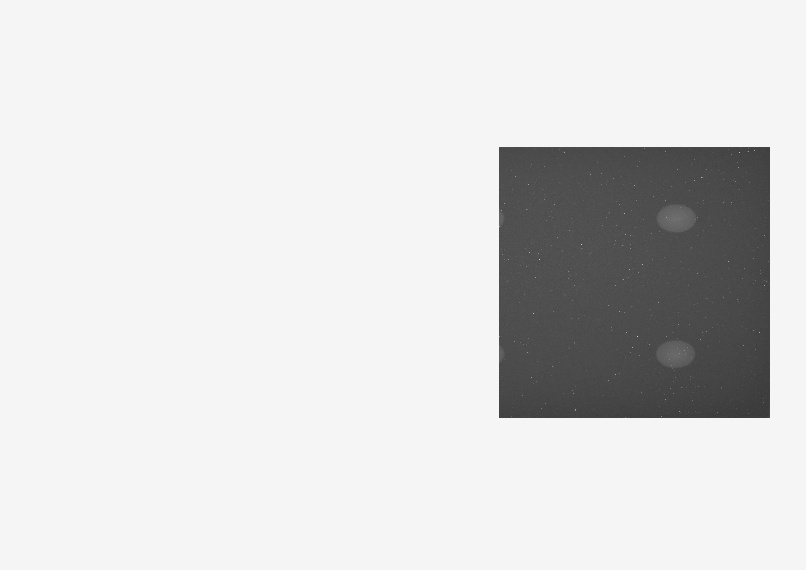bubble: (655, 203, 697, 233), (655, 339, 695, 368)
